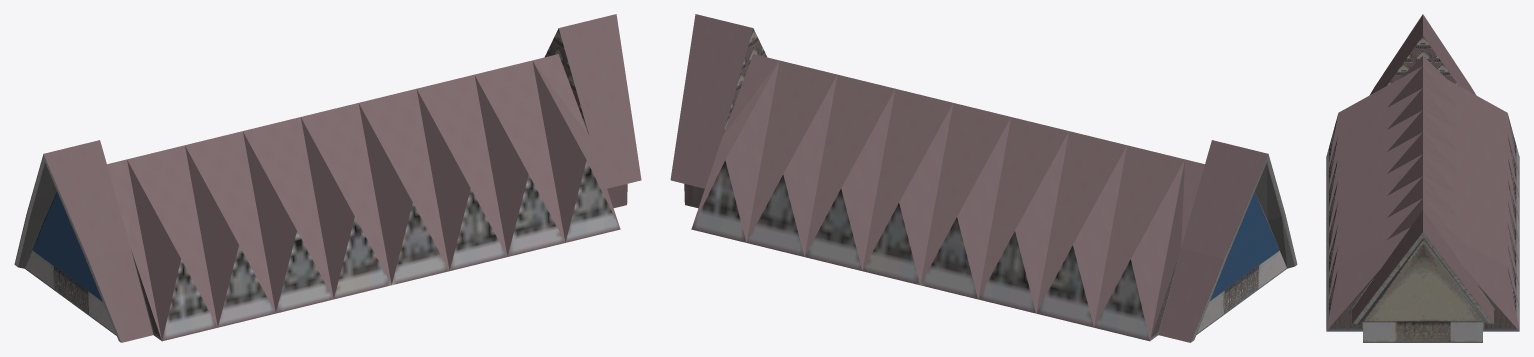
File: lodchurch01_lvs.obj
3 renders of one model, left to right at view 1: azimuth 30°, elevation 25°; view 2: azimuth 150°, elevation 25°; view 3: azimuth 270°, elevation 25°, orthographic. The views are drawn at different scales.
Parts seen in each view (by area): view 1: lodchurch01_lvs; view 2: lodchurch01_lvs; view 3: lodchurch01_lvs.
Boxes of the visible parts, x1=… form: lodchurch01_lvs: x1=14, y1=14, x2=641, y2=342; lodchurch01_lvs: x1=670, y1=14, x2=1297, y2=342; lodchurch01_lvs: x1=1326, y1=14, x2=1519, y2=342.
Bounding box in the file's own units: 83.92 × 21.83 × 31.46.
Materials: 2 (2 with a texture image).
